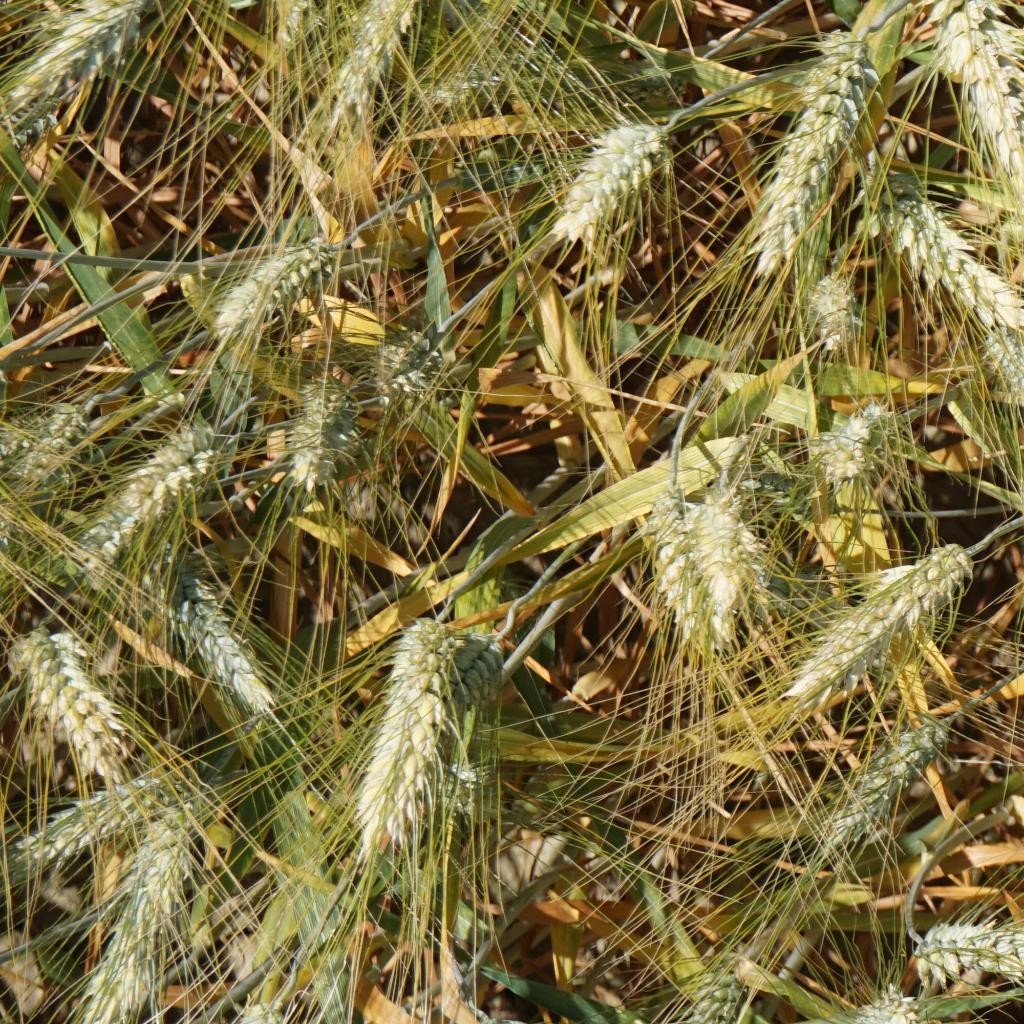0-0: (745, 45, 854, 263), (809, 520, 952, 681), (928, 0, 1024, 213), (873, 183, 1018, 321), (83, 422, 221, 563), (374, 607, 449, 848), (91, 815, 182, 1004), (19, 624, 131, 769), (177, 579, 291, 720), (820, 711, 938, 837), (547, 112, 652, 234), (334, 0, 466, 89), (21, 764, 170, 835), (275, 359, 359, 477), (196, 246, 324, 323), (803, 385, 896, 486), (645, 489, 702, 641), (897, 908, 1024, 972), (687, 495, 740, 630), (716, 496, 771, 615), (8, 399, 95, 472), (433, 615, 496, 711), (365, 327, 442, 405), (982, 323, 1024, 436), (803, 268, 857, 339), (679, 960, 738, 1024), (246, 0, 324, 31)
